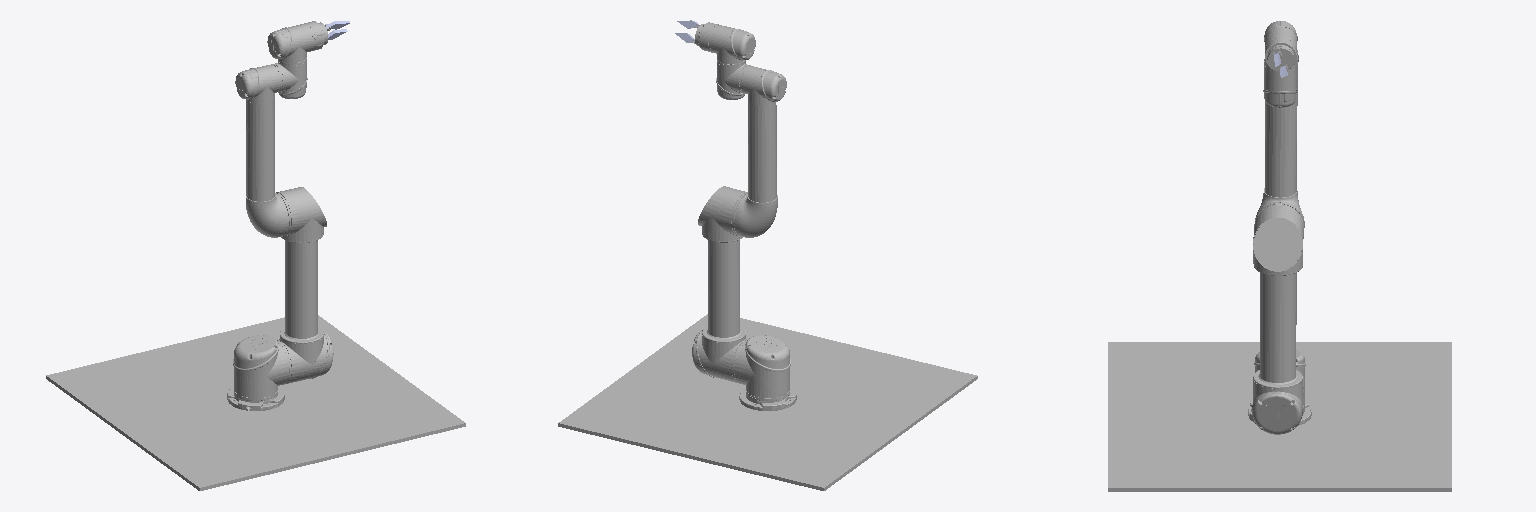
The robot description file, URDF, robot "ur5urdf":
<?xml version="1.0" encoding="utf-8"?>
<!-- This URDF was automatically created by SolidWorks to URDF Exporter! Originally created by [author] ([email redacted]) 
     Commit Version: 1.6.0-4-g7f85cfe  Build Version: 1.6.7995.38578
     For more information, please see http://wiki.ros.org/sw_urdf_exporter -->
<robot
  name="ur5urdf">

  <!-- joint_1 transmission -->
  <transmission name="joint_1_transmission">
    <type>transmission_interface/SimpleTransmission</type>
    <joint name="base_link1_joint">
      <hardwareInterface>hardware_interface/EffortJointInterface</hardwareInterface>
    </joint>
    <actuator name="link1_motor">
      <mechanicalReduction>1</mechanicalReduction>
    </actuator>
  </transmission>
  <!-- joint_2 transmission -->
  <transmission name="joint_2_transmission">
    <type>transmission_interface/SimpleTransmission</type>
    <joint name="link1_link2_joint">
      <hardwareInterface>hardware_interface/EffortJointInterface</hardwareInterface>
    </joint>
    <actuator name="link2_motor">
      <mechanicalReduction>1</mechanicalReduction>
    </actuator>
  </transmission>
  <!-- joint_3 transmission -->
  <transmission name="joint_3_transmission">
    <type>transmission_interface/SimpleTransmission</type>
    <joint name="link2_link3_joint">
      <hardwareInterface>hardware_interface/EffortJointInterface</hardwareInterface>
    </joint>
    <actuator name="link3_motor">
      <mechanicalReduction>1</mechanicalReduction>
    </actuator>
  </transmission>
  <!-- joint_4 transmission -->
  <transmission name="joint_4_transmission">
    <type>transmission_interface/SimpleTransmission</type>
    <joint name="link3_link4_joint">
      <hardwareInterface>hardware_interface/EffortJointInterface</hardwareInterface>
    </joint>
    <actuator name="link4_motor">
      <mechanicalReduction>1</mechanicalReduction>
    </actuator>
  </transmission>
  <!-- joint_5 transmission -->
  <transmission name="joint_5_transmission">
    <type>transmission_interface/SimpleTransmission</type>
    <joint name="link4_link5_joint">
      <hardwareInterface>hardware_interface/EffortJointInterface</hardwareInterface>
    </joint>
    <actuator name="link5_motor">
      <mechanicalReduction>1</mechanicalReduction>
    </actuator>
  </transmission>
  <!-- joint_6 transmission -->
  <transmission name="joint_6_transmission">
    <type>transmission_interface/SimpleTransmission</type>
    <joint name="link5_link6_joint">
      <hardwareInterface>hardware_interface/EffortJointInterface</hardwareInterface>
    </joint>
    <actuator name="link6_motor">
      <mechanicalReduction>1</mechanicalReduction>
    </actuator>
  </transmission>
  <!-- joint_7 transmission -->
  <transmission name="joint_7_transmission">
    <type>transmission_interface/SimpleTransmission</type>
    <joint name="ee_left">
      <hardwareInterface>hardware_interface/EffortJointInterface</hardwareInterface>
    </joint>
    <actuator name="ee_left_motor">
      <mechanicalReduction>1</mechanicalReduction>
    </actuator>
  </transmission>
  <!-- joint_8 transmission -->
  <transmission name="joint_8_transmission">
    <type>transmission_interface/SimpleTransmission</type>
    <joint name="ee_right">
      <hardwareInterface>hardware_interface/EffortJointInterface</hardwareInterface>
    </joint>
    <actuator name="ee_right_motor">
      <mechanicalReduction>1</mechanicalReduction>
    </actuator>
  </transmission>



  <link
    name="base">
    <gazebo reference="base">
      <turnGravityOff>true</turnGravityOff>
    </gazebo>
    <inertial>
      <origin
        xyz="-2.68085969102883E-05 -2.68490569042125E-05 0.00657485896604853"
        rpy="0 0 0" />
      <mass
        value="6.90431055394965" />
      <inertia
        ixx="0.342"
        ixy="0"
        ixz="0"
        iyy="0.342"
        iyz="0"
        izz="0.683" />
    </inertial>
    <visual>
      <origin
        xyz="0 0 0"
        rpy="0 0 0" />
      <geometry>
        <mesh
          filename="package://ur5urdf/meshes/base.STL" />
      </geometry>
      <material
        name="">
        <color
          rgba="0.752941176470588 0.752941176470588 0.752941176470588 1" />
      </material>
    </visual>
    <collision>
      <origin
        xyz="0 0 0"
        rpy="0 0 0" />
      <geometry>
        <mesh
          filename="package://ur5urdf/meshes/base.STL" />
      </geometry>
    </collision>
  </link>
  <link
    name="link1">
      <gazebo reference="link1">
      <turnGravityOff>true</turnGravityOff>
    </gazebo>
    <inertial>
      <origin
        xyz="0.0164284556092849 -0.000580480774681596 0.0989577550022467"
        rpy="0 0 0" />
      <mass
        value="1.57302770021544" />
      <inertia
        ixx="0.002"
        ixy="0"
        ixz="0"
        iyy="0.002"
        iyz="0"
        izz="0.002" />
    </inertial>
    <visual>
      <origin
        xyz="0 0 0"
        rpy="0 0 0" />
      <geometry>
        <mesh
          filename="package://ur5urdf/meshes/link1.STL" />
      </geometry>
      <material
        name="">
        <color
          rgba="0.752941176470588 0.752941176470588 0.752941176470588 1" />
      </material>
    </visual>
    <collision>
      <origin
        xyz="0 0 0"
        rpy="0 0 0" />
      <geometry>
        <mesh
          filename="package://ur5urdf/meshes/link1.STL" />
      </geometry>
    </collision>
  </link>
  <joint
    name="base_link1_joint"
    type="revolute">
    <origin
      xyz="0 0 0"
      rpy="0 0 0" />
    <parent
      link="base" />
    <child
      link="link1" />
    <axis
      xyz="0 0 1" />
    <limit effort="150.0" lower="-3.14159265" upper="94.2159265" velocity="3.15"/>
    <dynamics damping="50.0" friction="50.0"/>
  </joint>
  <link
    name="link2">
      <gazebo reference="link2">
      <turnGravityOff>true</turnGravityOff>
    </gazebo>
    <inertial>
      <origin
        xyz="0.000649615868101817 0.211074426915649 0.0696536698340907"
        rpy="0 0 0" />
      <mass
        value="4.55599144926429" />
      <inertia
        ixx="0.021"
        ixy="0"
        ixz="0"
        iyy="0.006"
        iyz="0"
        izz="0.021" />
    </inertial>
    <visual>
      <origin
        xyz="0 0 0"
        rpy="0 0 0" />
      <geometry>
        <mesh
          filename="package://ur5urdf/meshes/link2.STL" />
      </geometry>
      <material
        name="">
        <color
          rgba="0.752941176470588 0.752941176470588 0.752941176470588 1" />
      </material>
    </visual>
    <collision>
      <origin
        xyz="0 0 0"
        rpy="0 0 0" />
      <geometry>
        <mesh
          filename="package://ur5urdf/meshes/link2.STL" />
      </geometry>
    </collision>
  </link>
  <joint
    name="link1_link2_joint"
    type="revolute">
    <origin
      xyz="0.059962 -0.0021419 0.1"
      rpy="1.5708 0 1.5351" />
    <parent
      link="link1" />
    <child
      link="link2" />
    <axis
      xyz="0 0 -1" />
    <limit effort="150.0" lower="-3.14159265" upper="94.2159265" velocity="3.15"/>
    <dynamics damping="50.0" friction="50.0"/>
  </joint>
  <link
    name="link3">
      <gazebo reference="link3">
      <turnGravityOff>true</turnGravityOff>
    </gazebo>
    <inertial>
      <origin
        xyz="0.00172255790021764 0.187234537092566 -0.0400934284552358"
        rpy="0 0 0" />
      <mass
        value="2.65269861286087" />
      <inertia
        ixx="0.011"
        ixy="0"
        ixz="0"
        iyy="0.002"
        iyz="0"
        izz="0.011" />
    </inertial>
    <visual>
      <origin
        xyz="0 0 0"
        rpy="0 0 0" />
      <geometry>
        <mesh
          filename="package://ur5urdf/meshes/link3.STL" />
      </geometry>
      <material
        name="">
        <color
          rgba="0.752941176470588 0.752941176470588 0.752941176470588 1" />
      </material>
    </visual>
    <collision>
      <origin
        xyz="0 0 0"
        rpy="0 0 0" />
      <geometry>
        <mesh
          filename="package://ur5urdf/meshes/link3.STL" />
      </geometry>
    </collision>
  </link>
  <joint
    name="link2_link3_joint"
    type="revolute">
    <origin
      xyz="0.0013122 0.425 -0.0002"
      rpy="0 0 0" />
    <parent
      link="link2" />
    <child
      link="link3" />
    <axis
      xyz="0 0 1" />
    <limit effort="150.0" lower="-3.14159265" upper="94.2159265" velocity="3.15"/>
    <dynamics damping="50.0" friction="50.0"/>
  </joint>
  <link
    name="link4">
      <gazebo reference="link4">
      <turnGravityOff>true</turnGravityOff>
    </gazebo>
    <inertial>
      <origin
        xyz="1.18942787458106E-05 0.00245539576993026 0.0492786687277278"
        rpy="0 0 0" />
      <mass
        value="0.540829799509623" />
      <inertia
        ixx="0"
        ixy="0"
        ixz="0"
        iyy="0"
        iyz="0"
        izz="0" />
    </inertial>
    <visual>
      <origin
        xyz="0 0 0"
        rpy="0 0 0" />
      <geometry>
        <mesh
          filename="package://ur5urdf/meshes/link4.STL" />
      </geometry>
      <material
        name="">
        <color
          rgba="0.752941176470588 0.752941176470588 0.752941176470588 1" />
      </material>
    </visual>
    <collision>
      <origin
        xyz="0 0 0"
        rpy="0 0 0" />
      <geometry>
        <mesh
          filename="package://ur5urdf/meshes/link4.STL" />
      </geometry>
    </collision>
  </link>
  <joint
    name="link3_link4_joint"
    type="revolute">
    <origin
      xyz="0.003603 0.39223 -0.0032"
      rpy="0 0 0" />
    <parent
      link="link3" />
    <child
      link="link4" />
    <axis
      xyz="0 0 1" />
    <limit effort="150.0" lower="-3.14159265" upper="94.2159265" velocity="3.15"/>
    <dynamics damping="50.0" friction="50.0"/>
  </joint>
  <link
    name="link5">
      <gazebo reference="link5">
      <turnGravityOff>true</turnGravityOff>
    </gazebo>
    <inertial>
      <origin
        xyz="-0.00093839760264694 1.1115426756499E-05 0.0489429199336306"
        rpy="0 0 0" />
      <mass
        value="0.499794651587814" />
      <inertia
        ixx="0"
        ixy="0"
        ixz="0"
        iyy="0"
        iyz="0"
        izz="0" />
    </inertial>
    <visual>
      <origin
        xyz="0 0 0"
        rpy="0 0 0" />
      <geometry>
        <mesh
          filename="package://ur5urdf/meshes/link5.STL" />
      </geometry>
      <material
        name="">
        <color
          rgba="0.752941176470588 0.752941176470588 0.752941176470588 1" />
      </material>
    </visual>
    <collision>
      <origin
        xyz="0 0 0"
        rpy="0 0 0" />
      <geometry>
        <mesh
          filename="package://ur5urdf/meshes/link5.STL" />
      </geometry>
    </collision>
  </link>
  <joint
    name="link4_link5_joint"
    type="revolute">
    <origin
      xyz="0.00041521 0.041548 0.05337"
      rpy="-1.5708 -1.5351 -0.0099931" />
    <parent
      link="link4" />
    <child
      link="link5" />
    <axis
      xyz="0 0 -1" />
    <limit effort="150.0" lower="-3.14159265" upper="94.2159265" velocity="3.15"/>
    <dynamics damping="50.0" friction="50.0"/>
  </joint>
  <link
    name="link6">
      <gazebo reference="link6">
      <turnGravityOff>true</turnGravityOff>
    </gazebo>
    <inertial>
      <origin
        xyz="-0.000146885380795325 -1.40055732625877E-05 0.0193663387404327"
        rpy="0 0 0" />
      <mass
        value="0.159881457312803" />
      <inertia
        ixx="0"
        ixy="0"
        ixz="0"
        iyy="0"
        iyz="0"
        izz="0" />
    </inertial>
    <visual>
      <origin
        xyz="0 0 0"
        rpy="0 0 0" />
      <geometry>
        <mesh
          filename="package://ur5urdf/meshes/link6.STL" />
      </geometry>
      <material
        name="">
        <color
          rgba="0.752941176470588 0.752941176470588 0.752941176470588 1" />
      </material>
    </visual>
    <collision>
      <origin
        xyz="0 0 0"
        rpy="0 0 0" />
      <geometry>
        <mesh
          filename="package://ur5urdf/meshes/link6.STL" />
      </geometry>
    </collision>
  </link>
  <joint
    name="link5_link6_joint"
    type="revolute">
    <origin
      xyz="0.04867 0.00012719 0.05337"
      rpy="-1.5708 -0.13567 -1.5682" />
    <parent
      link="link5" />
    <child
      link="link6" />
    <axis
      xyz="0 0 -1" />
    <limit effort="150.0" lower="-3.14159265" upper="94.2159265" velocity="3.15"/>
    <dynamics damping="50.0" friction="50.0"/>
  </joint>
  <link
    name="left_finger">
      <gazebo reference="left_finger">
      <turnGravityOff>true</turnGravityOff>
    </gazebo>
    <inertial>
      <origin
        xyz="0.0267541246963017 -0.000681781388148117 0.0079999999999999"
        rpy="0 0 0" />
      <mass
        value="0.00873245147237448" />
      <inertia
        ixx="0"
        ixy="0"
        ixz="0"
        iyy="0"
        iyz="0"
        izz="0" />
    </inertial>
    <visual>
      <origin
        xyz="0 0 0"
        rpy="0 0 0" />
      <geometry>
        <mesh
          filename="package://ur5urdf/meshes/left_finger.STL" />
      </geometry>
      <material
        name="">
        <color
          rgba="0.792156862745098 0.819607843137255 0.933333333333333 1" />
      </material>
    </visual>
    <collision>
      <origin
        xyz="0 0 0"
        rpy="0 0 0" />
      <geometry>
        <mesh
          filename="package://ur5urdf/meshes/left_finger.STL" />
      </geometry>
    </collision>
  </link>
  <joint
    name="ee_left"
    type="revolute">
    <origin
      xyz="0.017368 -0.012741 0.054016"
      rpy="1.5708 -1.5704 -1.0134" />
    <parent
      link="link6" />
    <child
      link="left_finger" />
    <axis
      xyz="0 0 1" />
    <limit effort="150.0" lower="-3.14159265" upper="94.2159265" velocity="3.15"/>
    <dynamics damping="50.0" friction="50.0"/>
  </joint>
  <link
    name="right_finger">
      <gazebo reference="right_finger">
      <turnGravityOff>true</turnGravityOff>
    </gazebo>
    <inertial>
      <origin
        xyz="0.0264650045508118 -0.00398140028783656 0.00800000000000001"
        rpy="0 0 0" />
      <mass
        value="0.0087324514723745" />
      <inertia
        ixx="0"
        ixy="0"
        ixz="0"
        iyy="0"
        iyz="0"
        izz="0" />
    </inertial>
    <visual>
      <origin
        xyz="0 0 0"
        rpy="0 0 0" />
      <geometry>
        <mesh
          filename="package://ur5urdf/meshes/right_finger.STL" />
      </geometry>
      <material
        name="">
        <color
          rgba="0.792156862745098 0.819607843137255 0.933333333333333 1" />
      </material>
    </visual>
    <collision>
      <origin
        xyz="0 0 0"
        rpy="0 0 0" />
      <geometry>
        <mesh
          filename="package://ur5urdf/meshes/right_finger.STL" />
      </geometry>
    </collision>
  </link>
  <joint
    name="ee_right"
    type="revolute">
    <origin
      xyz="-0.00379 0.021205 0.054016"
      rpy="1.5708 -1.5704 -1.0134" />
    <parent
      link="link6" />
    <child
      link="right_finger" />
    <axis
      xyz="0 0 1" />
    <limit effort="150.0" lower="-3.14159265" upper="94.2159265" velocity="3.15"/>
    <dynamics damping="50.0" friction="50.0"/>
  </joint>

  <!-- define the ur5's position and orientation in the world coordinate system -->
  <link name="world"/>
  <joint name="world_joint" type="fixed">
    <parent link="world"/>
    <child link="base"/>
    <!-- TODO: check base_link name of robot -->
    <origin rpy="0.0 0.0 0.0" xyz="0.0 0.0 0.0"/>
  </joint>
</robot>

--- What the picture shows (computed from the rendered views, not written in the file) ---
The picture shows the robot from 3 angles, left to right: view 1: azimuth 30°, elevation 25°; view 2: azimuth 150°, elevation 25°; view 3: azimuth 270°, elevation 25°; orthographic projection.
Model ur5urdf with 10 links and 9 joints (8 revolute, 1 fixed), rooted at world, posed all joints at 0.
Links seen in each view (by area): view 1: base, link2, link3, link1, link5, link4; view 2: base, link2, link3, link1, link5, link4; view 3: base, link2, link3, link4, link6, link5.
Link boxes in pixels (bbox=[...]): base: bbox=[46, 315, 465, 490]; link2: bbox=[276, 187, 333, 383]; link3: bbox=[235, 64, 288, 237]; link1: bbox=[233, 335, 291, 397]; link5: bbox=[267, 23, 315, 62]; link4: bbox=[275, 58, 307, 98]; base: bbox=[558, 314, 977, 490]; link2: bbox=[692, 186, 747, 382]; link3: bbox=[734, 65, 786, 237]; link1: bbox=[732, 335, 790, 397]; link5: bbox=[708, 24, 755, 63]; link4: bbox=[716, 60, 746, 99]; base: bbox=[1108, 342, 1451, 491]; link2: bbox=[1251, 203, 1304, 434]; link3: bbox=[1255, 50, 1304, 224]; link4: bbox=[1263, 61, 1296, 107]; link6: bbox=[1265, 38, 1296, 71]; link5: bbox=[1264, 21, 1297, 63].
Size in the robot's own frame: 0.8 by 0.8 by 1.05 metres.
9 mesh visuals loaded from 9 distinct referenced files (9 binary STL).
